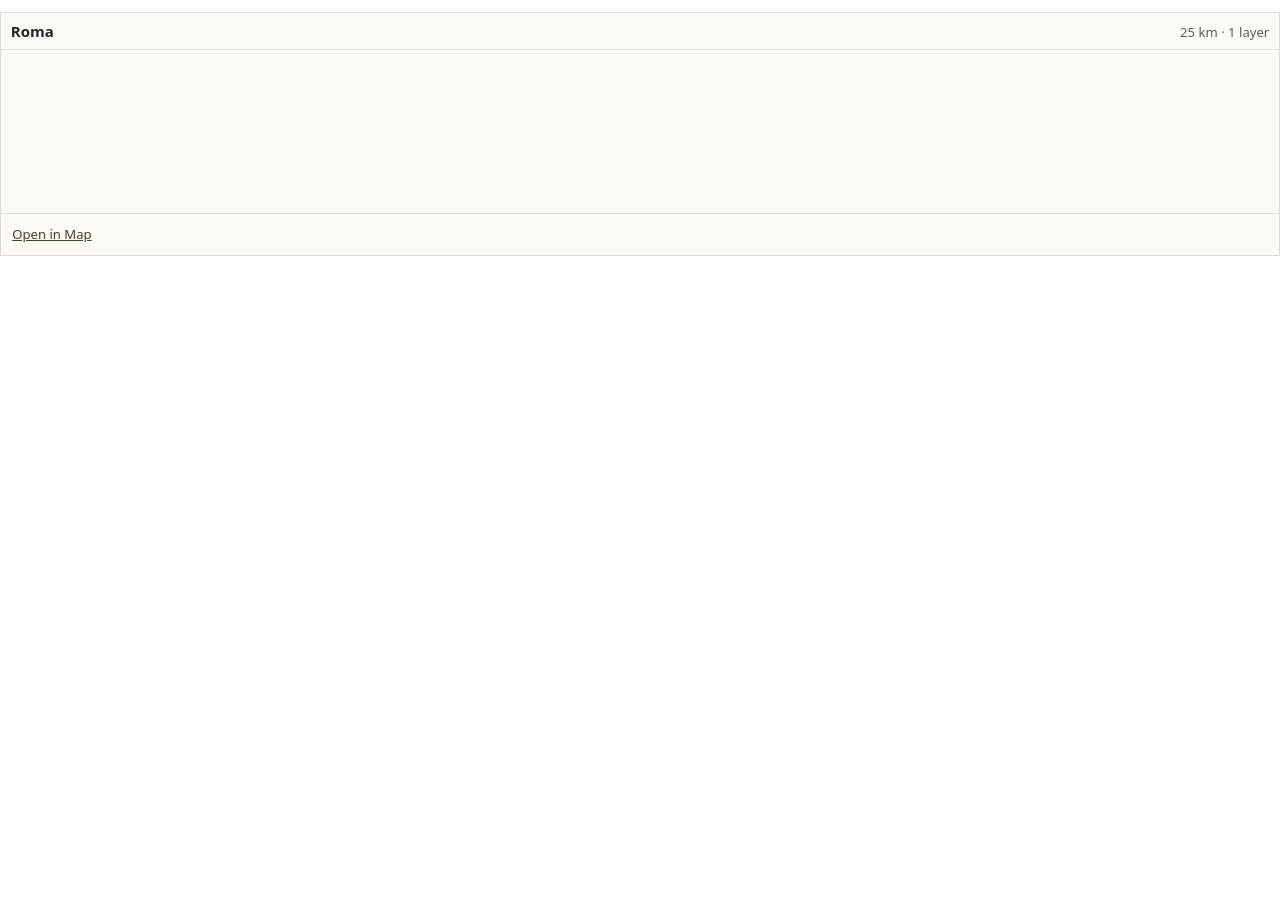
closes the map modal instead of reopening through the card click handler
Later steps or results of the test are not shown.
Click the button with aria-label "Open shared map: Roma" at (640, 114), box [1, 13, 1279, 214]
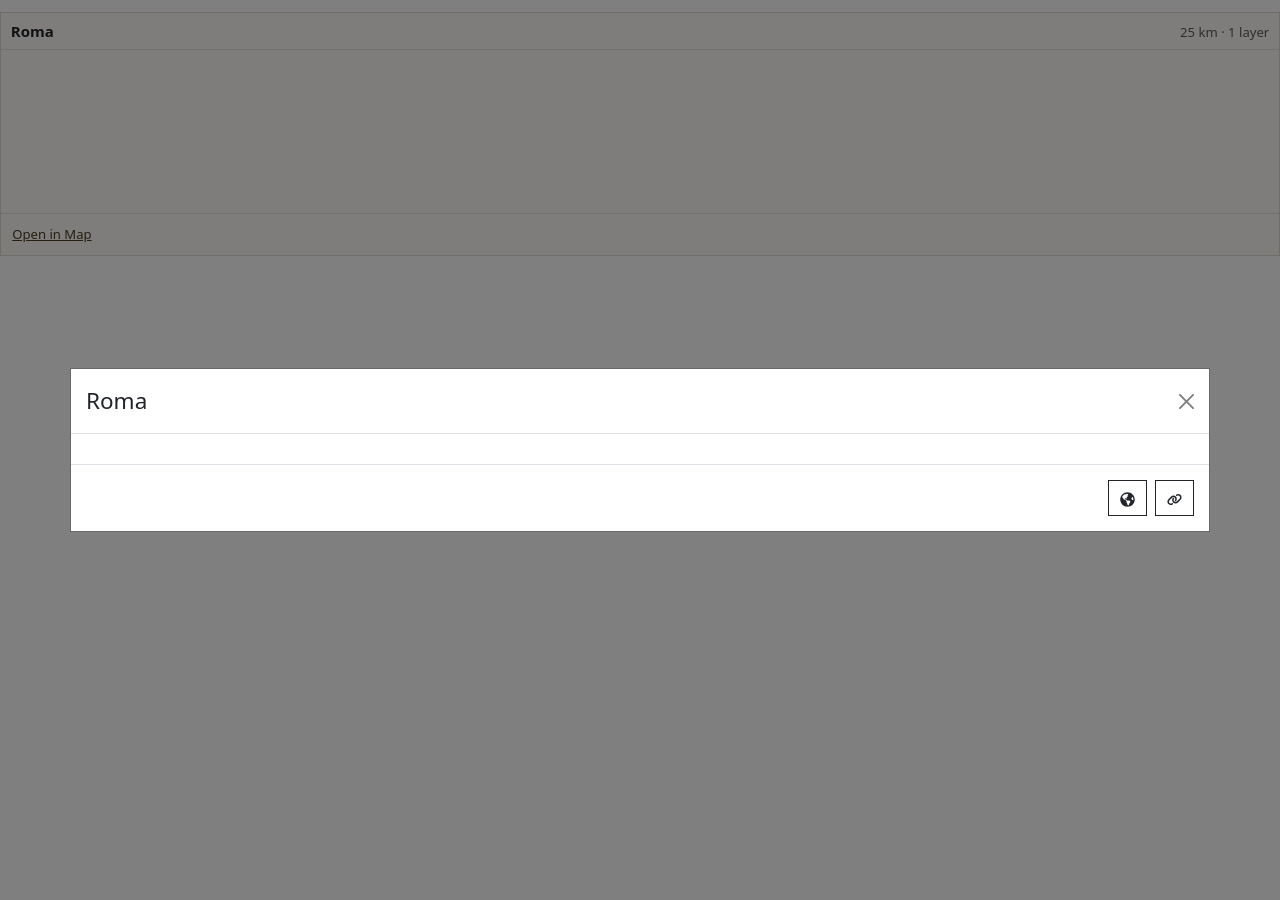
Check: the dialog is shown, box [70, 368, 1210, 532]
